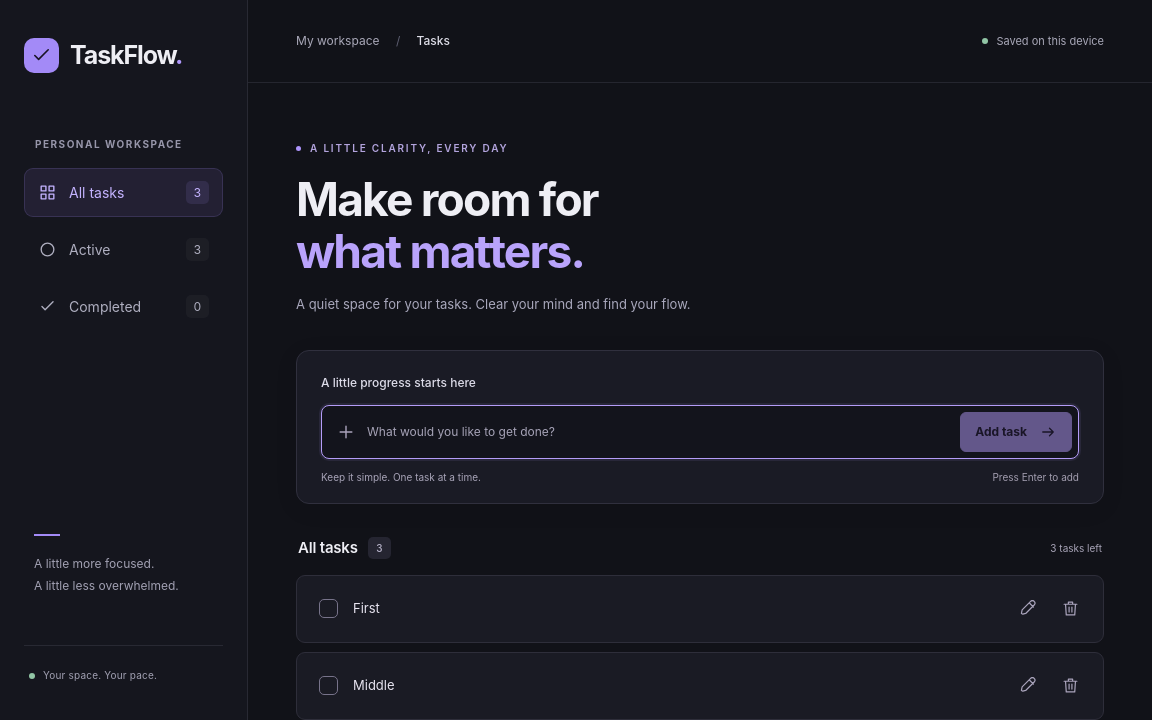
focus after a task leaves the visible list › does not move focus when a removed row did not contain it
Click the button named "Delete Middle". click: (1070, 686)
box: [1050, 666, 1090, 706]
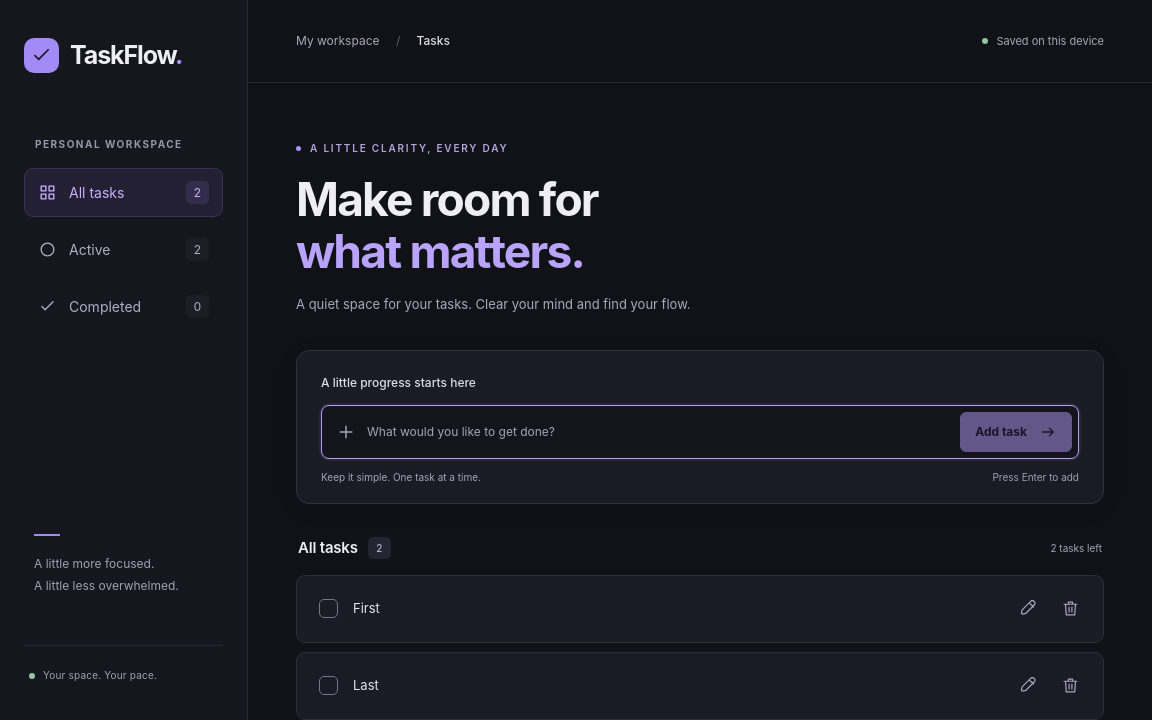
Expected: the text "Middle" is gone
